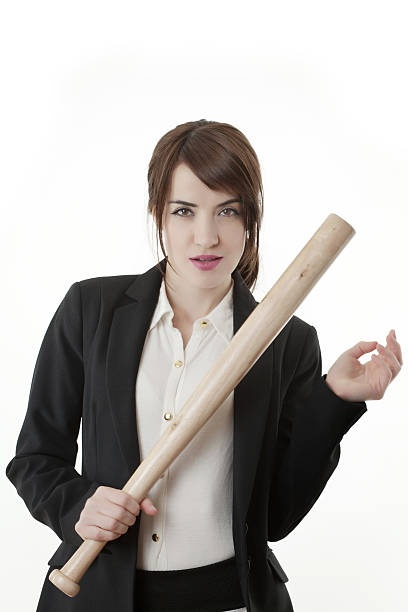bita: (48, 216, 355, 591)
